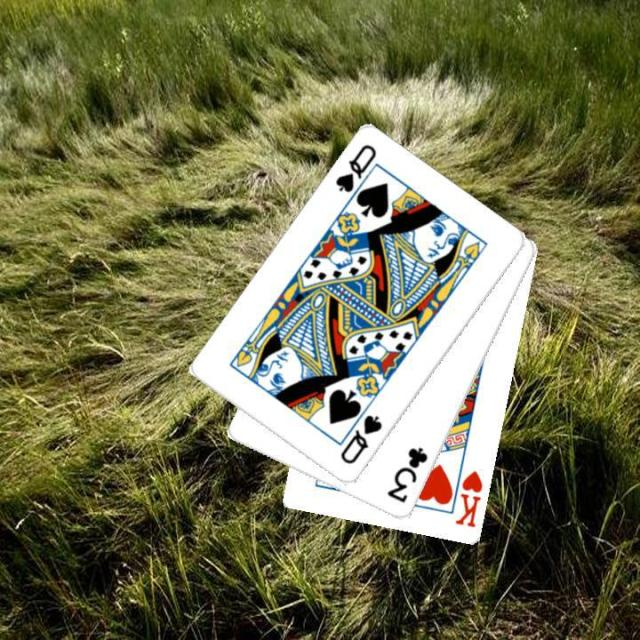3C: (383, 444, 430, 506)
KH: (452, 466, 486, 530)
QS: (336, 411, 384, 466), (332, 140, 378, 196)
